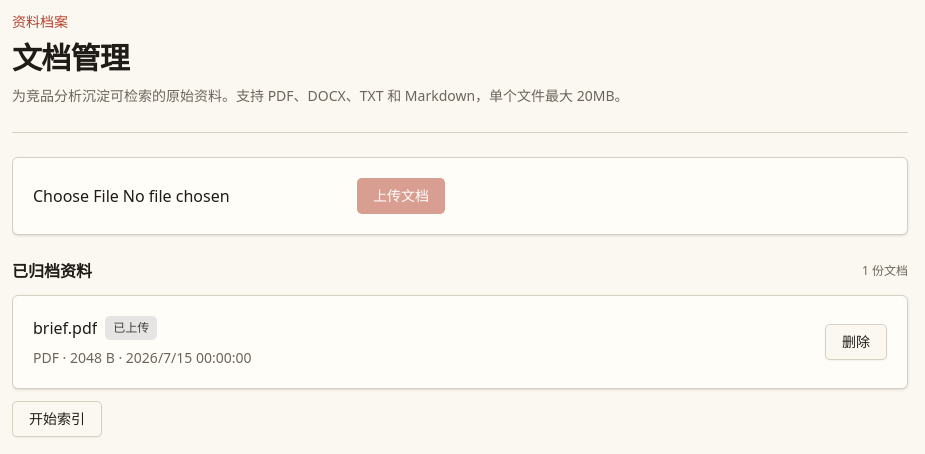
Test: SpaceDocuments › deletes a document then refreshes the list
What coordinates should you click on to do the following:
click the button with aria-label "删除 brief.pdf"
I would click on:
 (856, 342)
Its box is [825, 324, 887, 360].
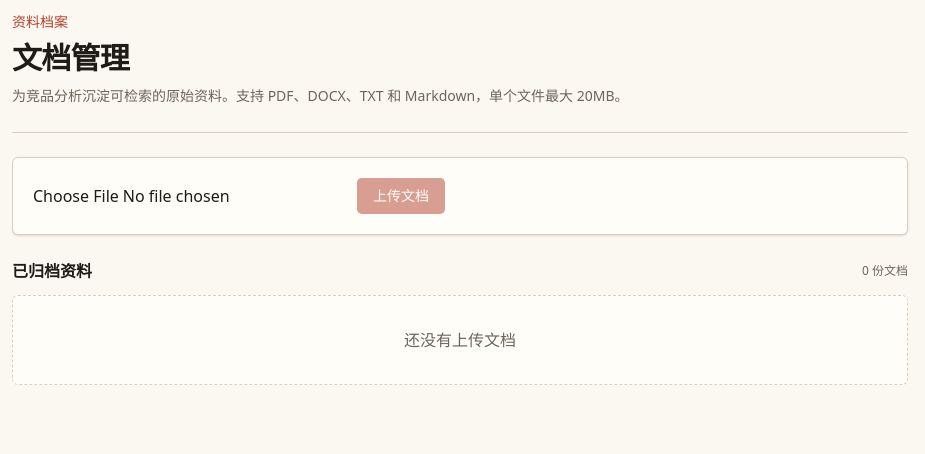
Now the text "还没有上传文档" is shown, box [12, 295, 908, 385]
